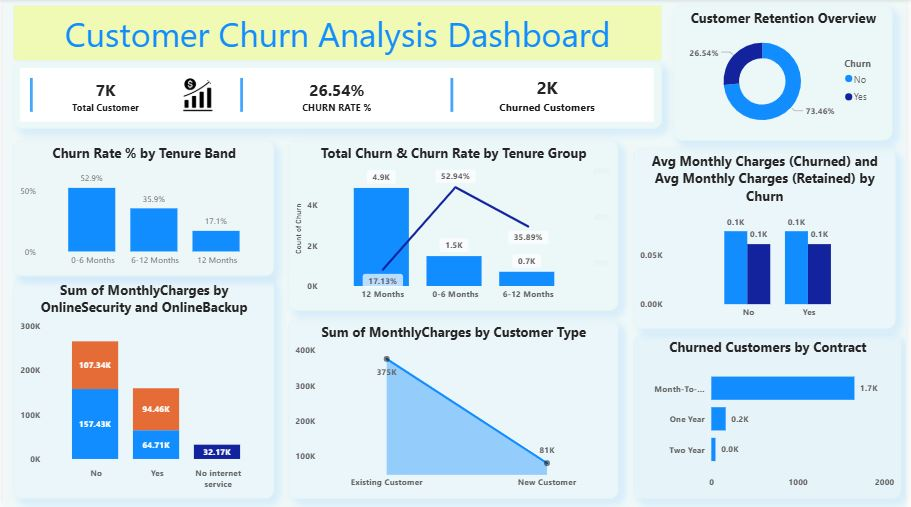

Layout of this report page (visuals, bound fields, positions):
{"tool":"powerbi","page":{"name":"DS_Customer_Task2","canvas":[1280,720],"ordinal":0},"visuals":[{"type":"cardVisual","fields":{"Data":["Calculate Measure.Total Customers","Calculate Measure.Churn Rate %","Calculate Measure.Churned Customers"]},"box":[14.4,87.8,920.2,96.5],"z":0},{"type":"donutChart","title":"Customer Retention Overview","fields":{"Category":["Customer_churn.Churn"],"Y":["Calculate Measure.Total Customers"]},"box":[949,8.6,311,191.5],"z":1000},{"type":"lineStackedColumnComboChart","title":"Total Churn & Churn Rate by Tenure Group","fields":{"Category":["Customer_churn.Tenure Band"],"Y":["CountNonNull(Customer_churn.Churn)"],"Y2":["Calculate Measure.Churn Rate %"]},"box":[404.6,200.2,468,241.9],"z":2000},{"type":"barChart","fields":{"Category":["Customer_churn.Contract"],"Y":["Calculate Measure.Churned Customers"]},"box":[892.8,475.2,380.2,233.3],"z":3000},{"type":"columnChart","fields":{"Y":["Sum(Customer_churn.MonthlyCharges)"],"Category":["Customer_churn.OnlineSecurity"],"Series":["Customer_churn.OnlineBackup"]},"box":[14.4,394.6,370.1,313.9],"z":4000},{"type":"areaChart","fields":{"Category":["Customer_churn.Customer Type"],"Y":["Sum(Customer_churn.MonthlyCharges)"]},"box":[404.6,453.6,468,254.9],"z":5000},{"type":"columnChart","fields":{"Y":["Calculate Measure.Churn Rate %"],"Category":["Customer_churn.Tenure Band"]},"box":[14.4,200.2,370.1,193],"z":6000},{"type":"clusteredColumnChart","fields":{"Y":["Calculate Measure.Avg Monthly Charges (Churned)","Calculate Measure.Avg Monthly Charges (Retained)"],"Category":["Customer_churn.Churn"]},"box":[892.8,211.7,371.5,256.3],"z":7000},{"type":"textbox","box":[14.4,8.6,920.2,79.2],"z":8000}]}

Visuals, with their boxes in screenshot pixels (x1, y1, x2, y2), scaled from the page's 1280x720 canvas onto the 911x507 screenshot:
cardVisual - Calculate Measure.Total Customers x Calculate Measure.Churn Rate %: l=10, t=62, r=665, b=130
"Customer Retention Overview" donutChart: l=675, t=6, r=897, b=141
"Total Churn & Churn Rate by Tenure Group" lineStackedColumnComboChart: l=288, t=141, r=621, b=311
barChart - Customer_churn.Contract x Calculate Measure.Churned Customers: l=635, t=335, r=906, b=499
columnChart - Sum(Customer_churn.MonthlyCharges) x Customer_churn.OnlineSecurity: l=10, t=278, r=274, b=499
areaChart - Customer_churn.Customer Type x Sum(Customer_churn.MonthlyCharges): l=288, t=319, r=621, b=499
columnChart - Calculate Measure.Churn Rate % x Customer_churn.Tenure Band: l=10, t=141, r=274, b=277
clusteredColumnChart - Calculate Measure.Avg Monthly Charges (Churned) x Calculate Measure.Avg Monthly Charges (Retained): l=635, t=149, r=900, b=330
textbox: l=10, t=6, r=665, b=62
